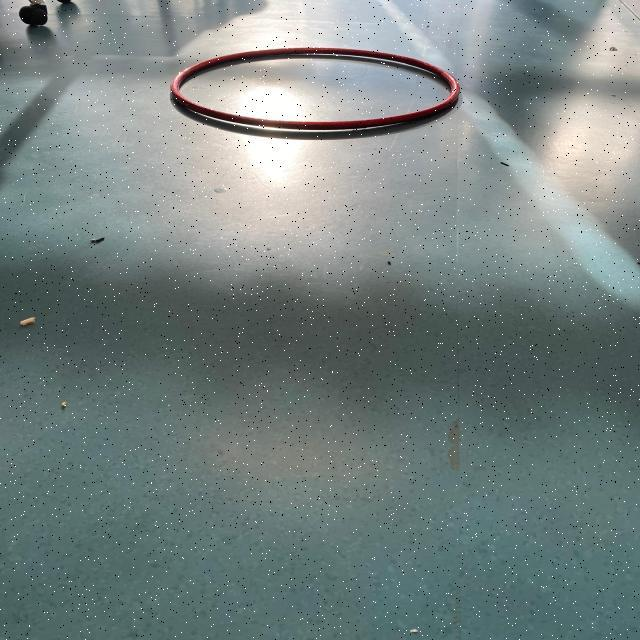Circle: (162, 41, 467, 138)
